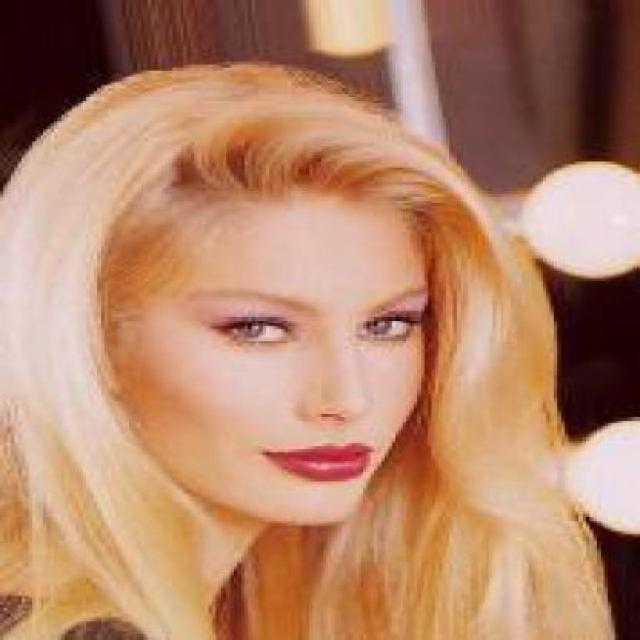closed-mouth: (268, 434, 374, 482)
